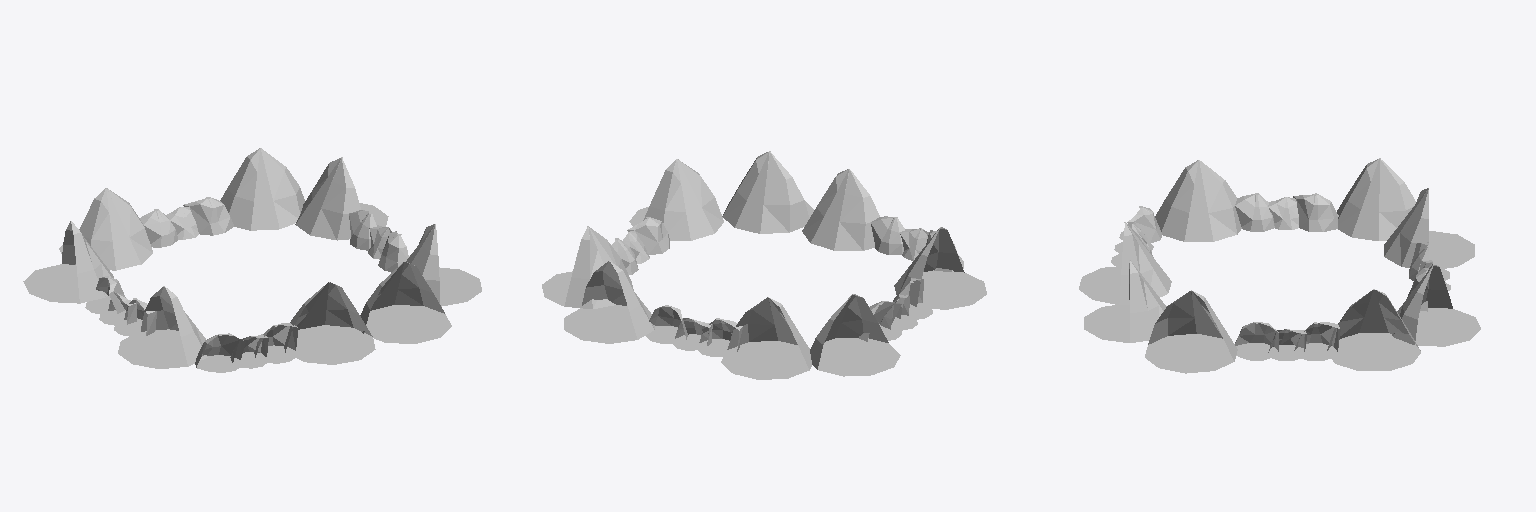
File: montana.obj
The picture shows the model from 3 angles: view 1: azimuth 30°, elevation 25°; view 2: azimuth 150°, elevation 25°; view 3: azimuth 270°, elevation 25°; orthographic projection.
Parts seen in each view (by area): view 1: Montana_Montana_Cylinder.002; view 2: Montana_Montana_Cylinder.002; view 3: Montana_Montana_Cylinder.002.
Part boxes in pixels (x1,y1,x2,y2): Montana_Montana_Cylinder.002: (23, 148, 481, 372); Montana_Montana_Cylinder.002: (542, 151, 986, 379); Montana_Montana_Cylinder.002: (1079, 158, 1480, 373).
Size of the model in its own units: 75.95 by 12.9 by 75.08.